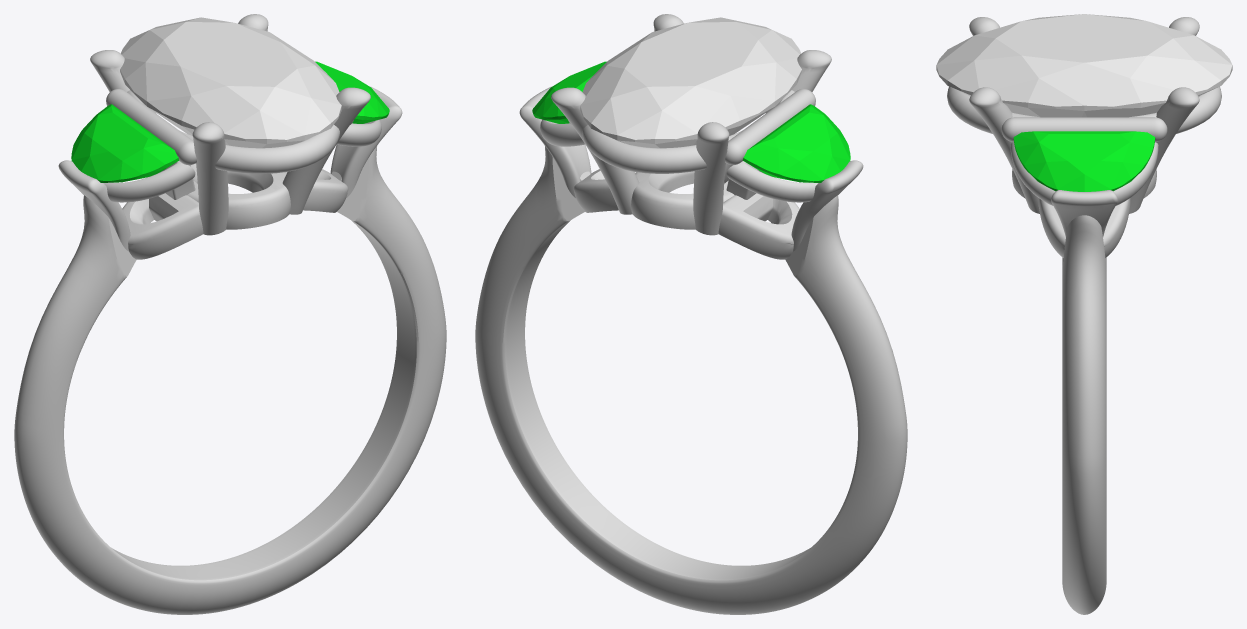
Rendered from JennaV3widerEm_blender.glb.
3 views of the same model, side by side, from view 1: azimuth 30°, elevation 25°; view 2: azimuth 150°, elevation 25°; view 3: azimuth 270°, elevation 25° (orthographic).
Parts seen in each view (by area): view 1: V3 Jenna PT for 3d model, Jenna dia for 3d model, V3 Jenna emerald for 3d model.001, V3 Jenna emerald for 3d model; view 2: V3 Jenna PT for 3d model, Jenna dia for 3d model, V3 Jenna emerald for 3d model.001, V3 Jenna emerald for 3d model; view 3: V3 Jenna PT for 3d model, Jenna dia for 3d model, V3 Jenna emerald for 3d model.
Boxes of the visible parts, x1,y1,x2,y2 form: V3 Jenna PT for 3d model: (14,14,446,614); Jenna dia for 3d model: (120,17,341,148); V3 Jenna emerald for 3d model.001: (71,104,179,182); V3 Jenna emerald for 3d model: (315,61,389,123); V3 Jenna PT for 3d model: (475,14,907,614); Jenna dia for 3d model: (580,17,801,148); V3 Jenna emerald for 3d model.001: (743,104,850,182); V3 Jenna emerald for 3d model: (532,61,606,123); V3 Jenna PT for 3d model: (947,17,1221,614); Jenna dia for 3d model: (936,14,1232,117); V3 Jenna emerald for 3d model: (1013,131,1155,191).
Bounding box in the file's own units: 20.08 × 24.77 × 12.01.
